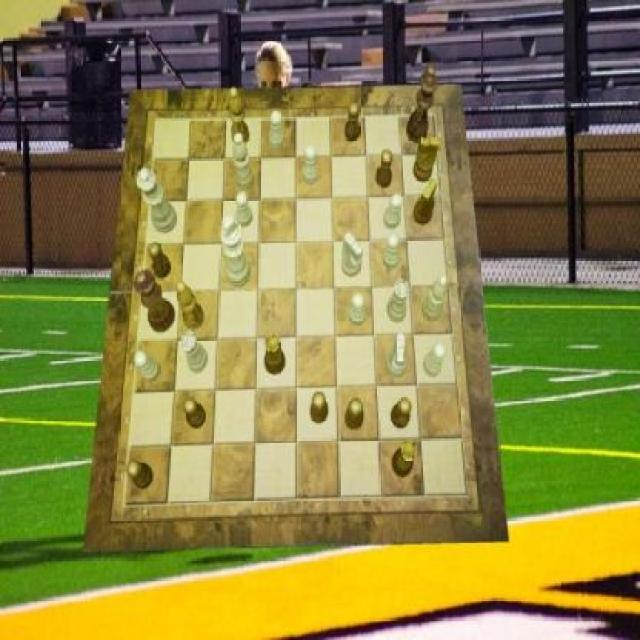bishop: (177, 282, 205, 331), (229, 88, 249, 146)
black-bishop: (406, 63, 439, 145)
black-king: (412, 137, 440, 183), (414, 180, 438, 226)
black-knight: (150, 242, 172, 279), (126, 460, 153, 489), (183, 397, 206, 429), (389, 397, 412, 429), (377, 149, 394, 188), (345, 103, 360, 143), (346, 398, 364, 431), (311, 392, 328, 425)
black-pawn: (132, 269, 175, 333)
black-queen: (392, 439, 417, 476), (264, 336, 286, 376)
black-rook: (233, 132, 254, 190), (423, 276, 449, 322)
white-bishop: (220, 214, 251, 288)
white-king: (341, 232, 364, 278), (386, 334, 409, 378)
white-knight: (136, 351, 162, 383), (423, 342, 446, 376), (383, 194, 402, 230), (303, 146, 320, 185), (383, 232, 400, 270), (270, 111, 286, 151), (237, 192, 254, 228), (348, 294, 365, 328)
white-pawn: (136, 168, 176, 233)
white-queen: (182, 331, 208, 373), (386, 278, 409, 322)
